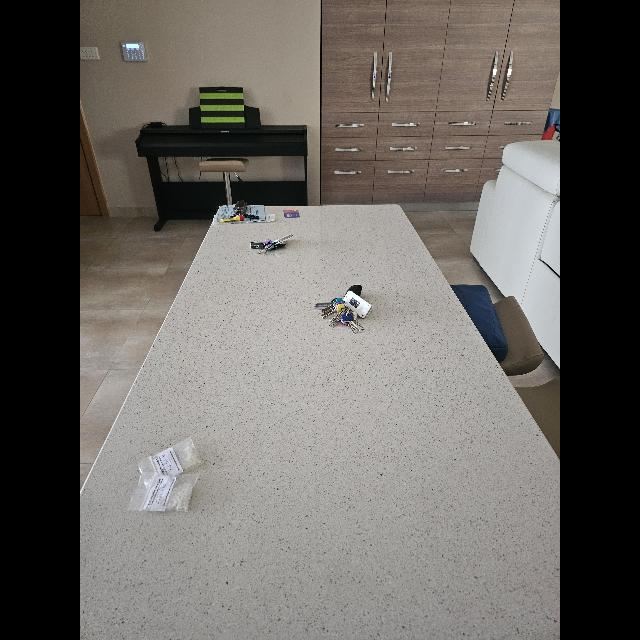Keys: (320, 298, 364, 334), (260, 242, 286, 254)
